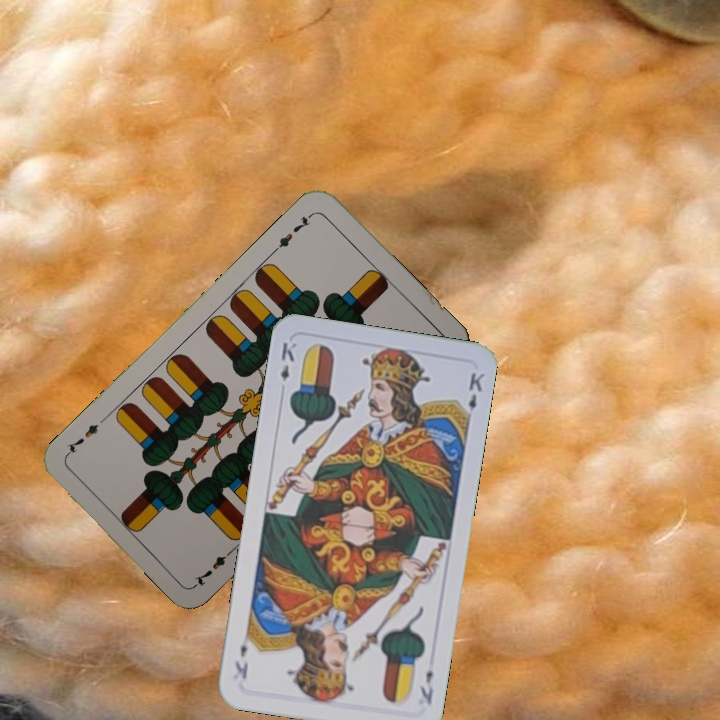E7: (190, 543, 238, 589), (270, 209, 317, 255)
EK: (276, 338, 299, 384), (416, 666, 436, 707)
